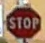stop: (5, 6, 41, 38)
